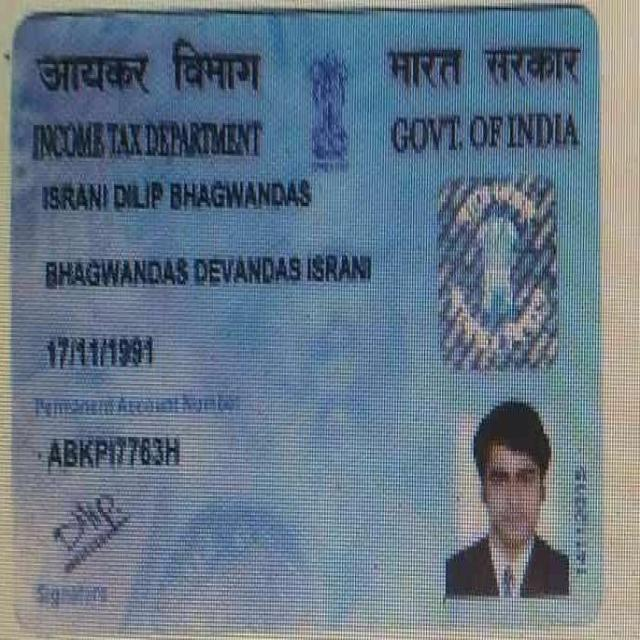pan_card: (17, 15, 599, 623)
